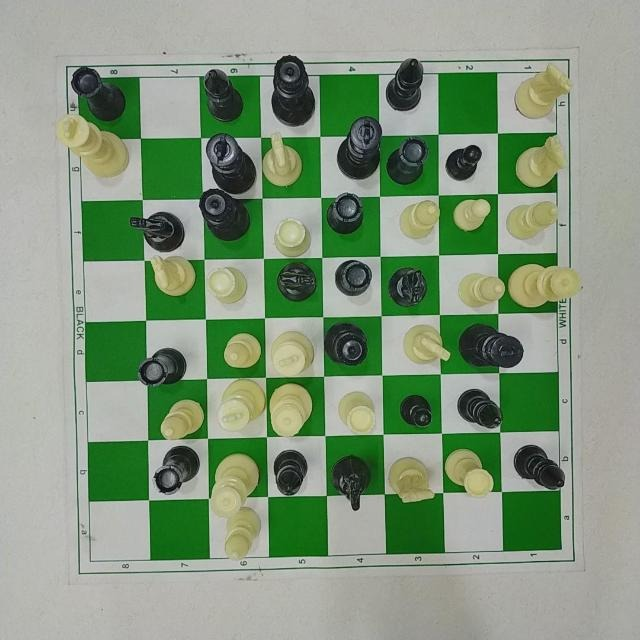black-bishop: (512, 443, 568, 493), (199, 66, 245, 124), (382, 53, 426, 108), (457, 386, 504, 430), (270, 448, 307, 495)
black-king: (200, 132, 258, 192), (459, 323, 523, 371), (336, 115, 381, 181)
black-knight: (329, 448, 372, 513), (129, 208, 187, 248), (273, 262, 319, 305), (389, 263, 428, 306)
black-pawn: (445, 143, 482, 180), (401, 389, 435, 428)
black-queen: (268, 52, 316, 127), (198, 189, 251, 238), (325, 320, 369, 366)
black-rook: (71, 64, 125, 120), (152, 445, 201, 497), (137, 344, 189, 389), (385, 136, 429, 182), (325, 192, 365, 234), (335, 260, 375, 296)
white-bishop: (218, 514, 263, 562), (504, 199, 559, 238), (158, 399, 203, 442), (397, 198, 443, 240), (458, 272, 506, 309), (223, 331, 263, 370)
white-king: (51, 113, 131, 181), (215, 376, 265, 432), (271, 329, 315, 375)
white-knight: (512, 59, 574, 118), (512, 137, 572, 191), (401, 321, 453, 371), (260, 130, 302, 190), (386, 454, 436, 503), (145, 252, 196, 299)
white-pawn: (453, 196, 494, 232)
white-queen: (510, 260, 584, 310), (208, 453, 258, 514), (269, 381, 314, 437)
white-rook: (444, 446, 498, 499), (335, 388, 380, 437), (205, 262, 249, 304), (273, 215, 313, 260)
